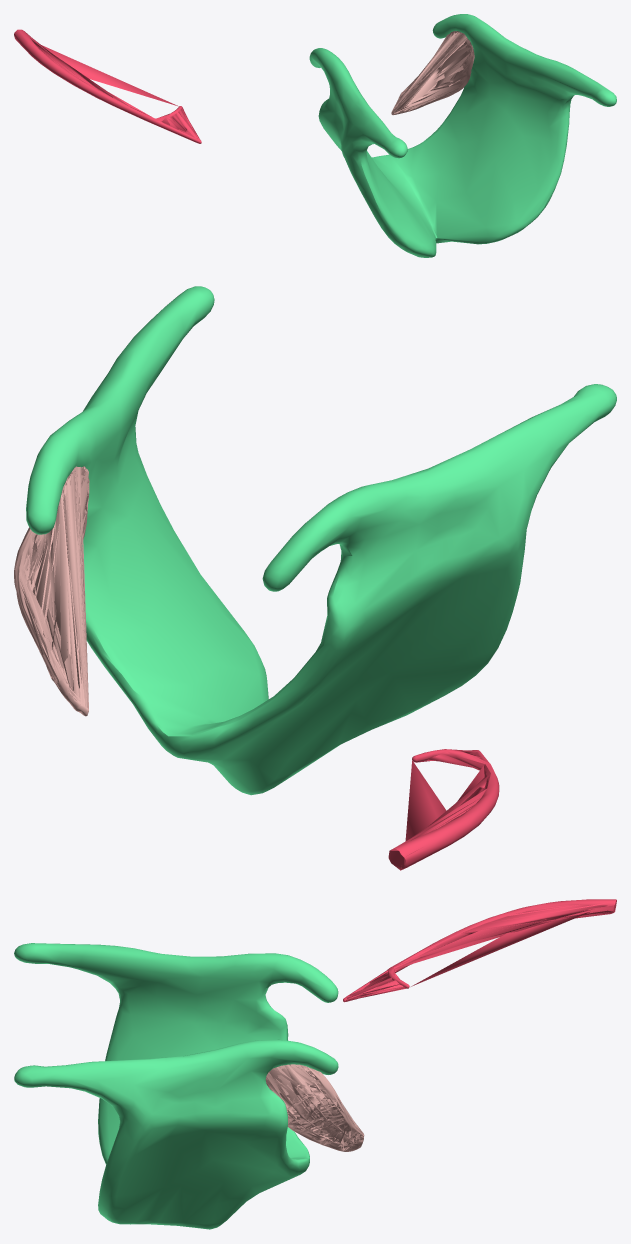
Rendered from organ-thyroid.glb.
3 renders of one model, top to bottom at view 1: azimuth 30°, elevation 25°; view 2: azimuth 150°, elevation 25°; view 3: azimuth 270°, elevation 25°, orthographic. The views are drawn at different scales.
Visible parts, largest first — view 1: Larynx_Frame, Thyroid_Arteries, Thyroid_Gland_Lobes; view 2: Larynx_Frame, Thyroid_Gland_Lobes, Thyroid_Arteries; view 3: Larynx_Frame, Thyroid_Arteries, Thyroid_Gland_Lobes.
Boxes of the visible parts, bbox=[...] form: Larynx_Frame: bbox=[309, 14, 616, 257]; Thyroid_Arteries: bbox=[14, 29, 201, 143]; Thyroid_Gland_Lobes: bbox=[391, 31, 474, 115]; Larynx_Frame: bbox=[26, 286, 616, 795]; Thyroid_Gland_Lobes: bbox=[14, 466, 89, 716]; Thyroid_Arteries: bbox=[388, 749, 499, 870]; Larynx_Frame: bbox=[14, 943, 338, 1229]; Thyroid_Arteries: bbox=[343, 899, 616, 1002]; Thyroid_Gland_Lobes: bbox=[265, 1064, 364, 1151].
Bounding box in the file's own units: 0.3576 × 0.1782 × 0.4229.
